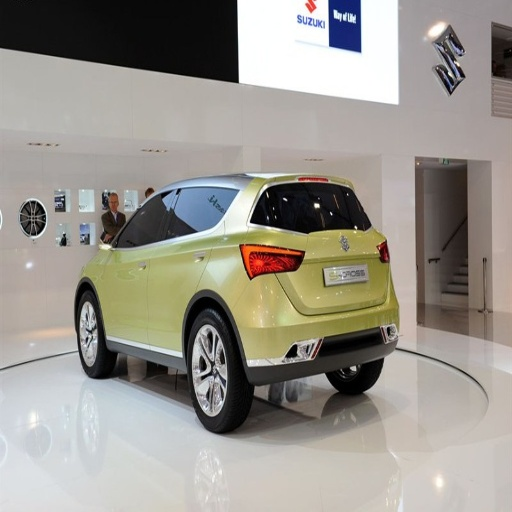back_bumper: (235, 278, 400, 382)
back_glass: (251, 185, 367, 231)
back_left_door: (148, 189, 209, 349)
tailgate: (290, 228, 369, 312)
trunk: (267, 230, 387, 314)
